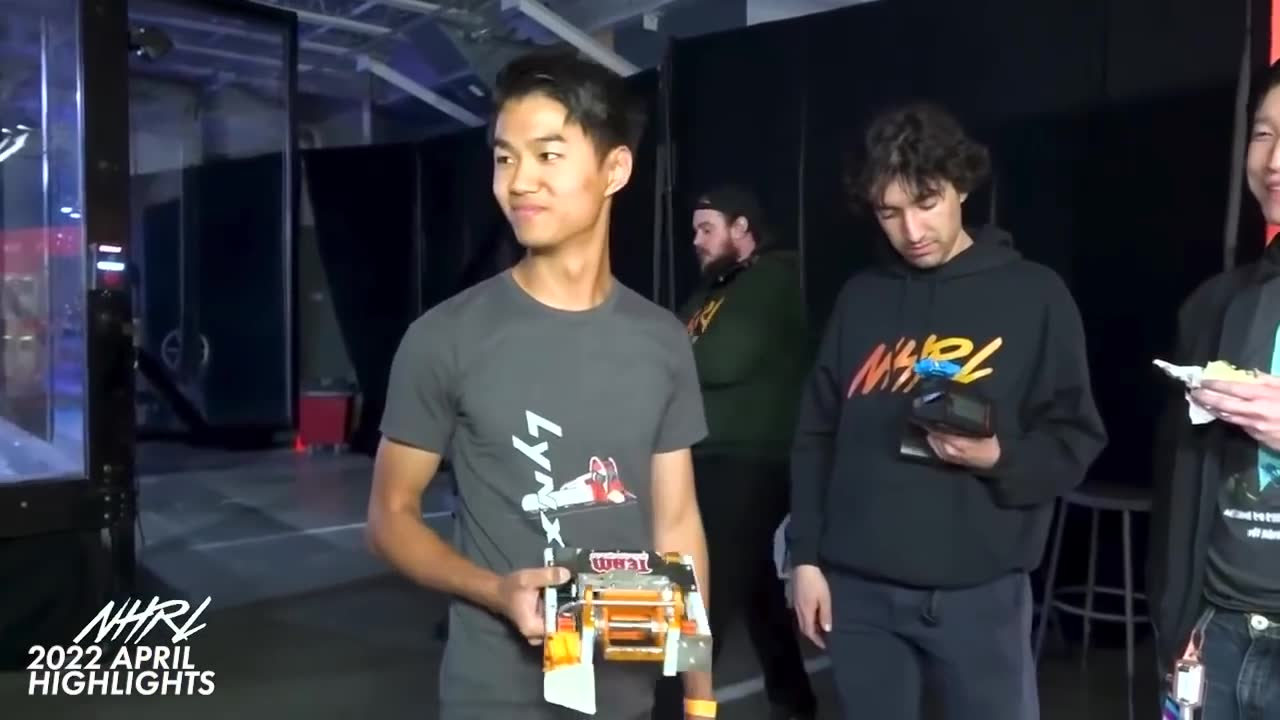combatbot: (542, 550, 714, 716)
